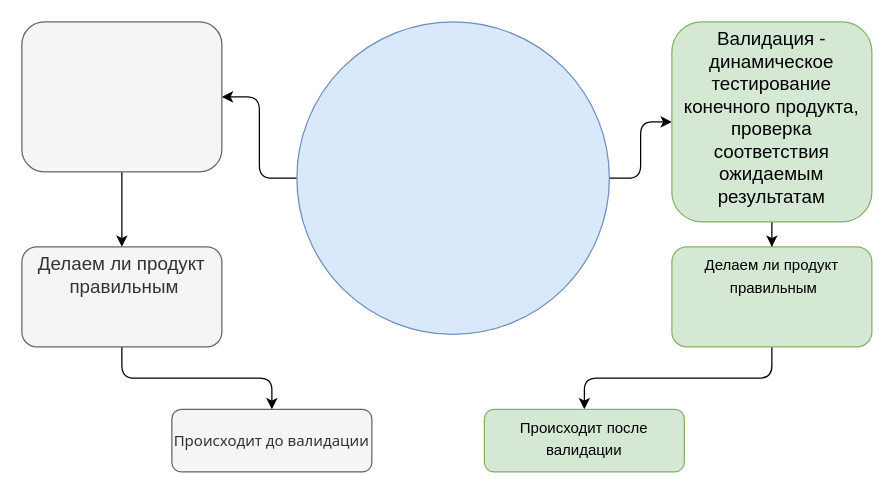
The diagram is 894 pixels wide and 494 high, and some of its shapes have lost their labels. Here are the shapes that lost their labels. From the top down, the centre of each, then its label:
At (x=121, y=96): "Верификация - статическая проверка документов, дизайна,кода и тд".
At (x=452, y=177): "Verification & Validation".
